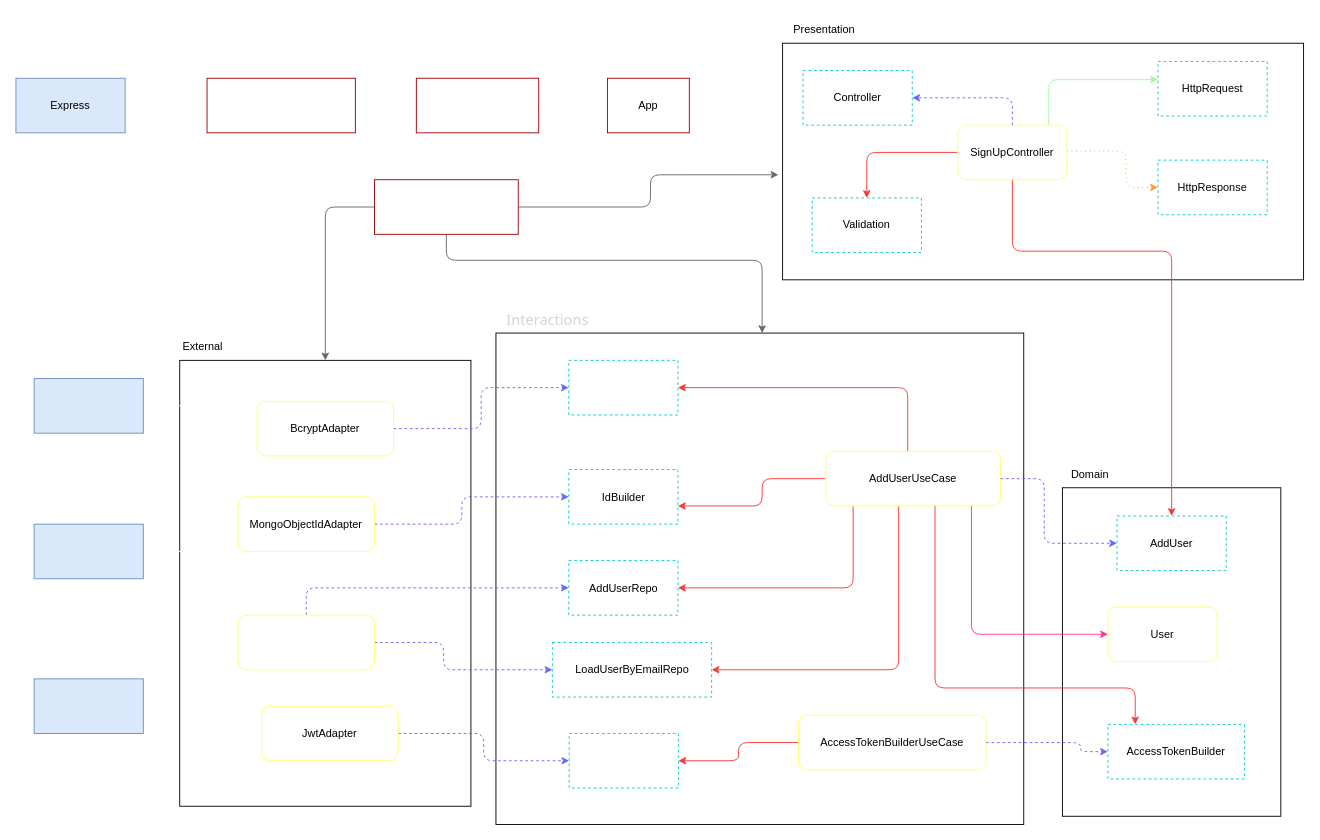
The diagram is 1320 pixels wide and 840 high, and some of its shapes have lost their labels. The box of each missing label's shape, as (x1, y1, x2, y2) in pixels:
Bcrypt: (33, 378, 143, 433)
Encrypter: (568, 733, 678, 788)
ExpressRouterAdapter: (206, 77, 355, 133)
Hasher: (568, 359, 678, 415)
Jwt: (33, 678, 143, 733)
MongoDb: (33, 523, 143, 579)
SignUpFactory: (374, 179, 518, 234)
SignUpRouter: (415, 77, 539, 133)
UserMongoRepo: (237, 614, 374, 670)
